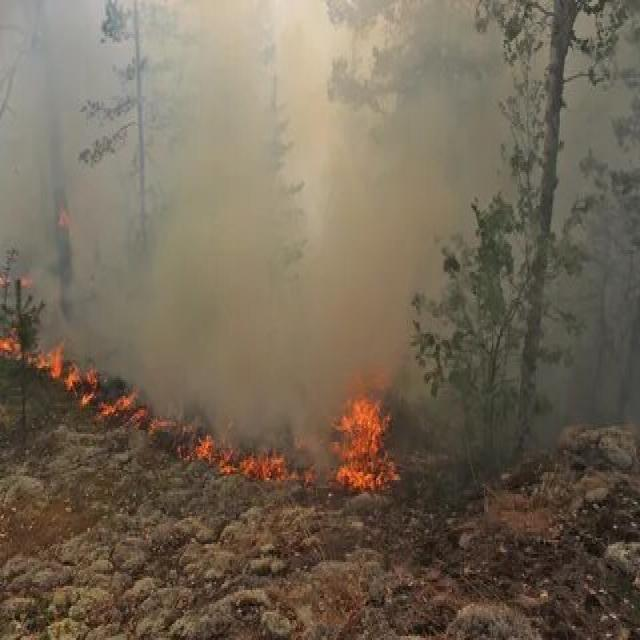Fire: (189, 364, 413, 513), (0, 298, 164, 436)
Smoke: (8, 1, 506, 367)
